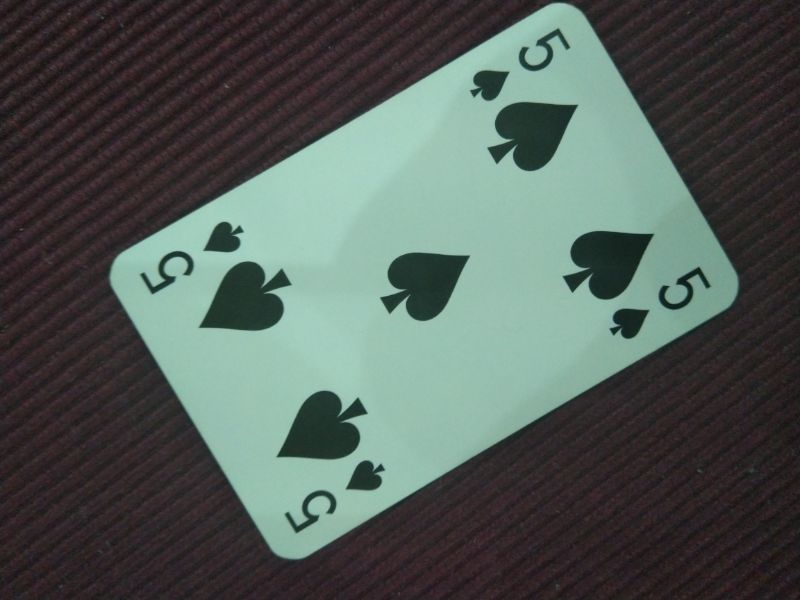5s: (136, 218, 249, 300), (605, 260, 712, 343), (466, 26, 576, 105), (282, 456, 392, 535)
